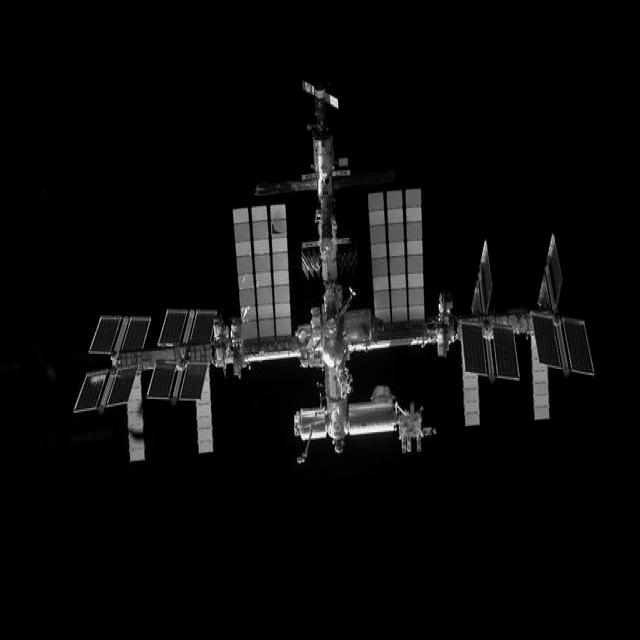medium_debris: (74, 81, 595, 461)
